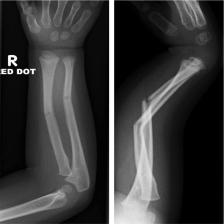greenstick-fracture: (0, 0, 212, 224)
